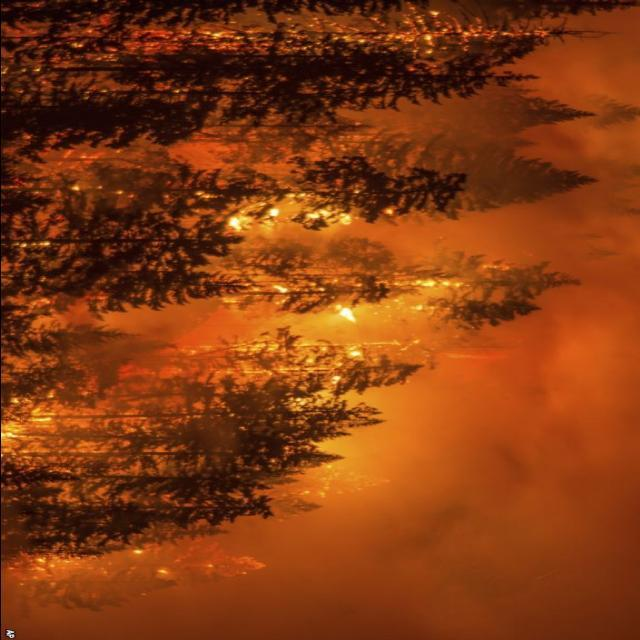Fire: (214, 215, 461, 407)
